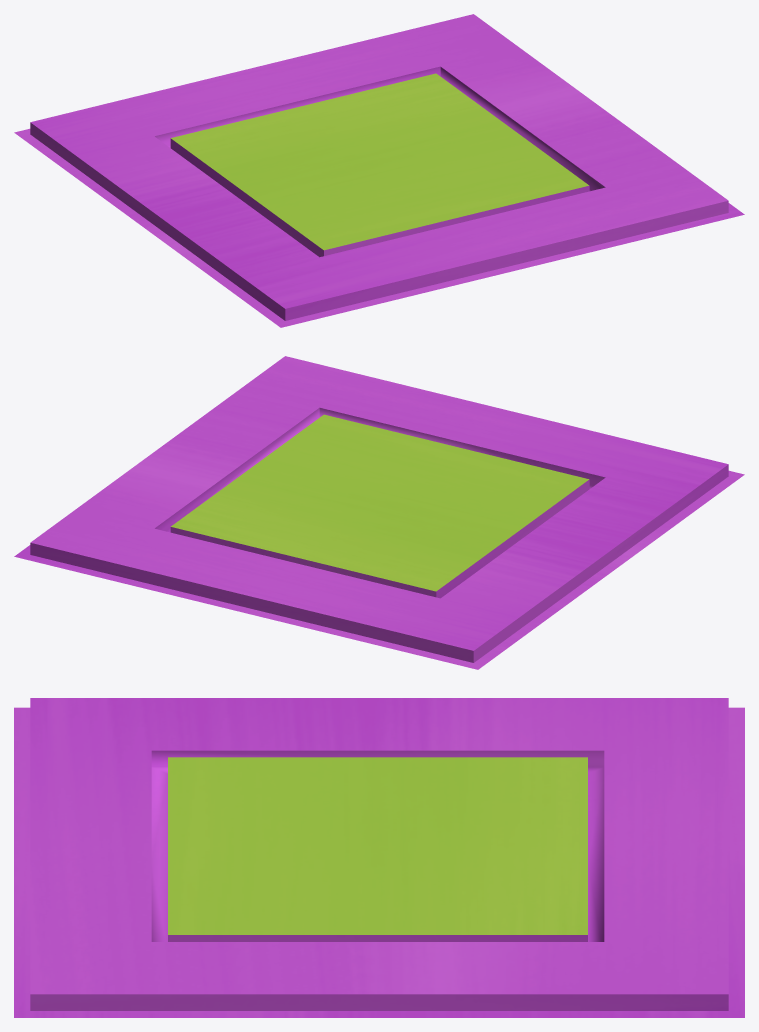
The model's file is SmallFloor.fbx.
The picture shows the model from 3 angles, top to bottom: view 1: azimuth 30°, elevation 25°; view 2: azimuth 150°, elevation 25°; view 3: azimuth 270°, elevation 25°; orthographic projection. The views are drawn at different scales.
Parts seen in each view (by area): view 1: fLOOR.002; view 2: fLOOR.002; view 3: fLOOR.002.
Boxes of the visible parts, x1,y1,x2,y2 form: fLOOR.002: [14, 14, 744, 327]; fLOOR.002: [14, 356, 744, 669]; fLOOR.002: [14, 698, 744, 1017].
Size of the model in its own units: 119 by 2.99 by 119.
